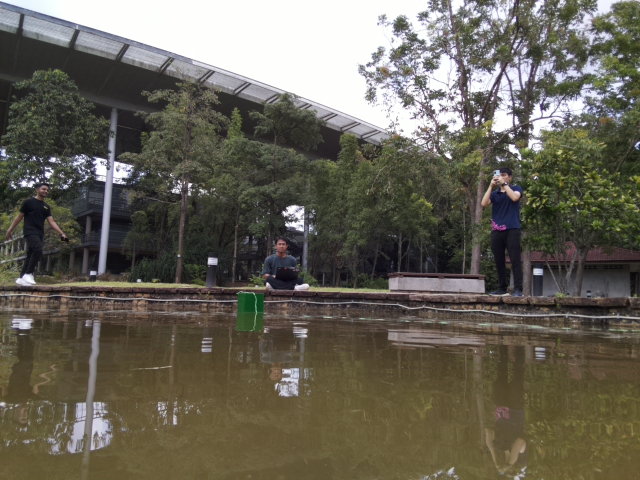obstacle: (236, 290, 265, 317)
